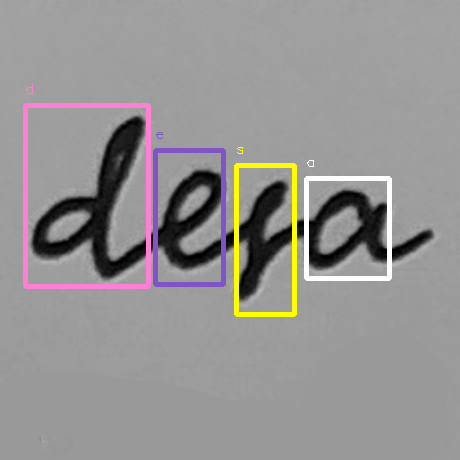a: (263, 216, 315, 262)
d: (127, 180, 188, 267)
e: (193, 208, 229, 261)
s: (230, 214, 260, 277)
